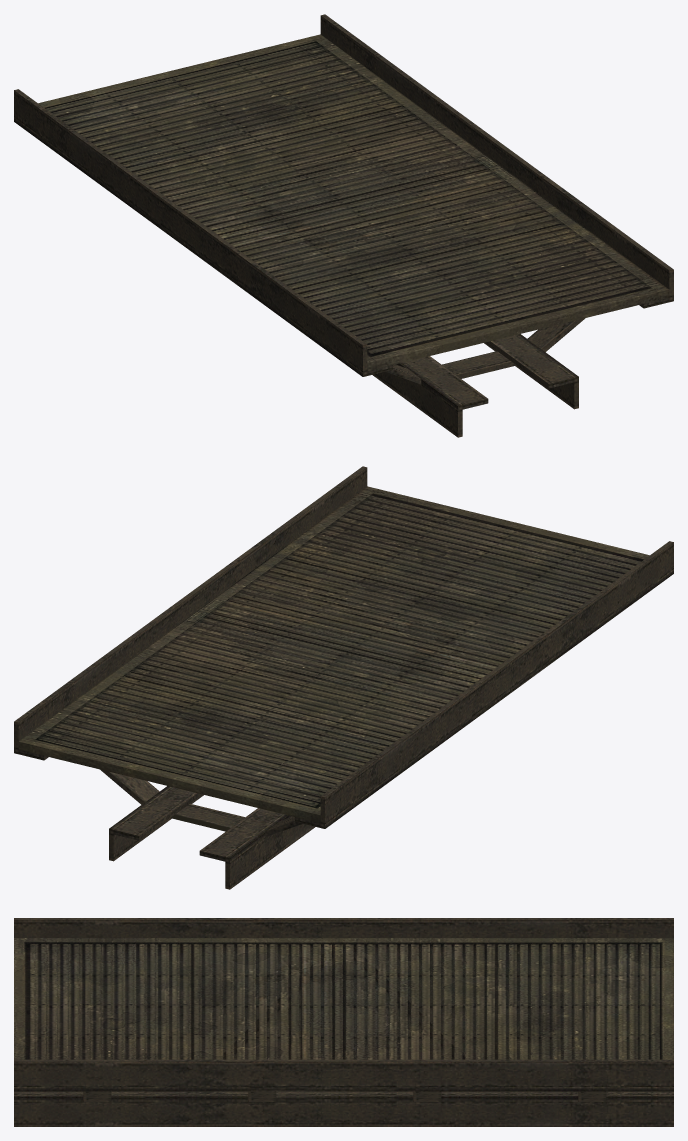
The model's file is platform_bx_1.obj.
3 renders of one model, top to bottom at view 1: azimuth 30°, elevation 25°; view 2: azimuth 150°, elevation 25°; view 3: azimuth 270°, elevation 25°, orthographic. The views are drawn at different scales.
Visible parts, largest first — view 1: platform_bx_1; view 2: platform_bx_1; view 3: platform_bx_1.
Boxes of the visible parts, x1,y1,x2,y2 form: platform_bx_1: (14,14,673,437); platform_bx_1: (14,466,673,889); platform_bx_1: (14,918,673,1126).
Bounding box in the file's own units: 2.06 × 0.73 × 4.
